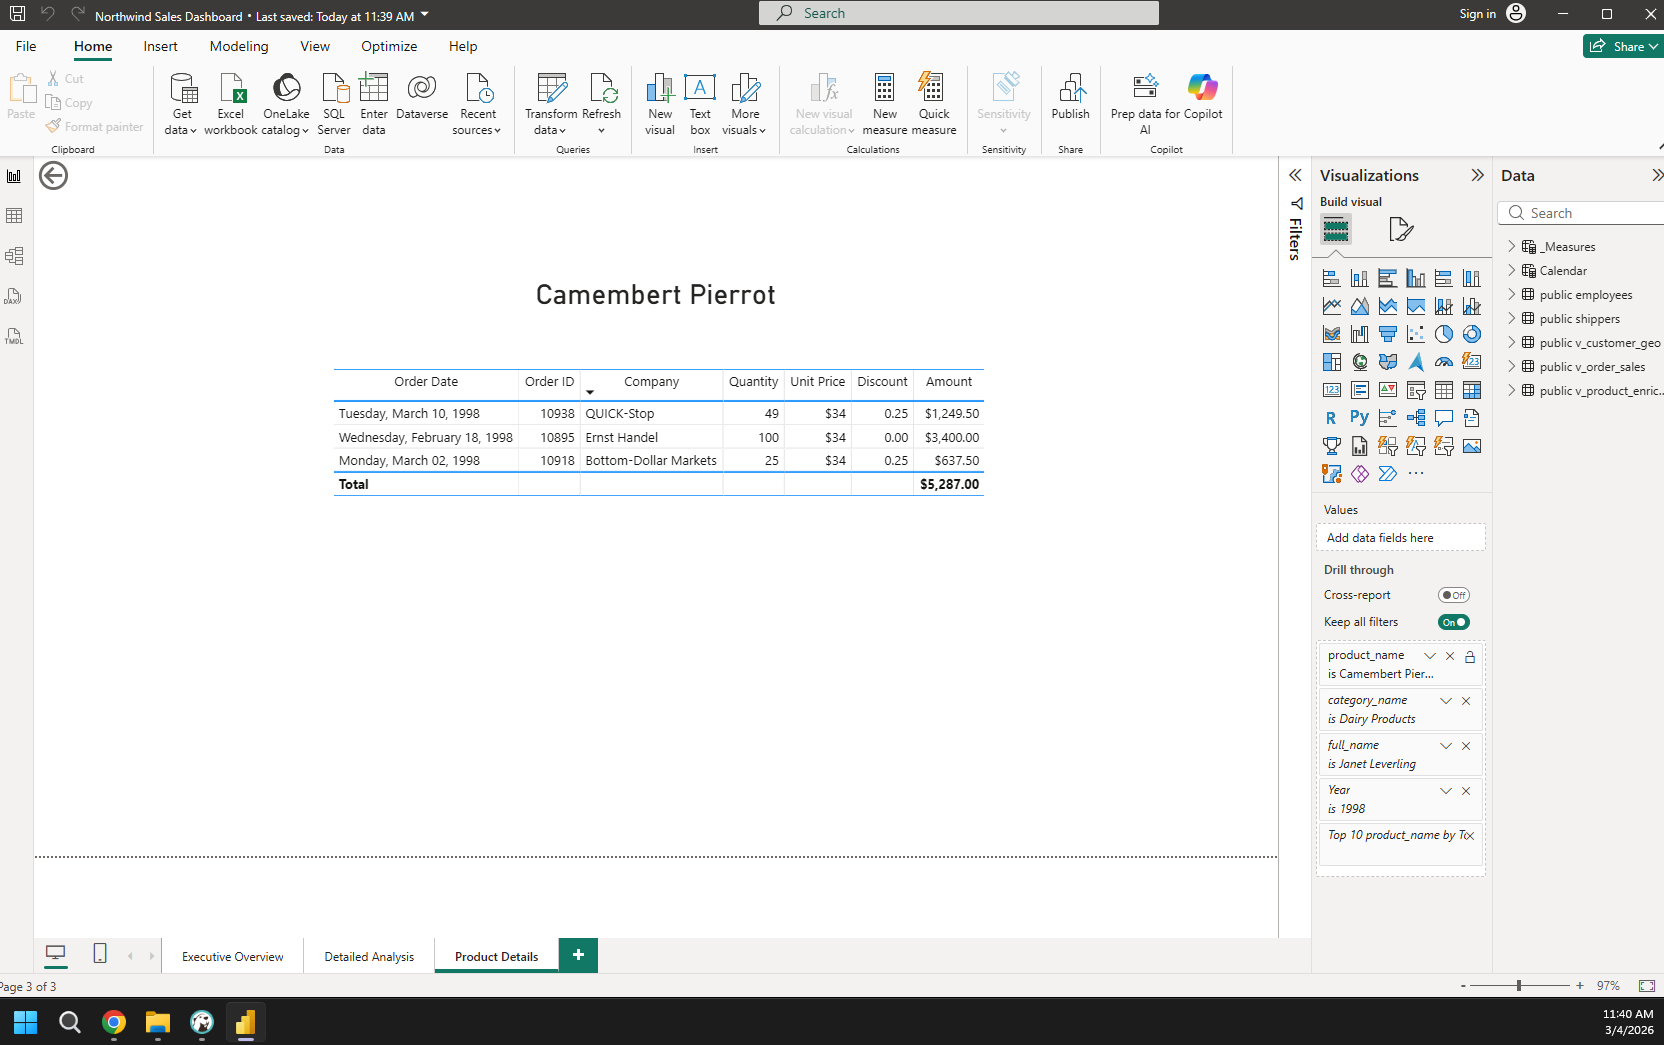

The page's visual inventory and layout, read from the dashboard file:
{"tool":"powerbi","page":{"name":"Product Details","canvas":[1280,720],"ordinal":2},"visuals":[{"type":"actionButton","box":[0,0,100,40],"z":0},{"type":"card","fields":{"Values":["Min(public v_product_enriched.product_name)"]},"box":[489.7,55.4,300.5,189.7],"z":1000},{"type":"tableEx","fields":{"Values":["Calendar.Date","public v_order_sales.order_id","public v_customer_geo.company_name","public v_order_sales.quantity","public v_order_sales.unit_price","public v_order_sales.discount","Sum(public v_order_sales.total_line_amount)"]},"box":[302.5,214,696.6,462],"z":2000}]}

Visuals, with their boxes on the page's 1280x720 design canvas (x1, y1, x2, y2). These are canvas units, not pixel positions in the 1664x1045 screenshot, which may show the page scaled, cropped or inside an application window:
actionButton: <box>0,0,100,40</box>
card - Min(public v_product_enriched.product_name): <box>490,55,790,245</box>
tableEx - Calendar.Date x public v_order_sales.order_id: <box>302,214,999,676</box>
